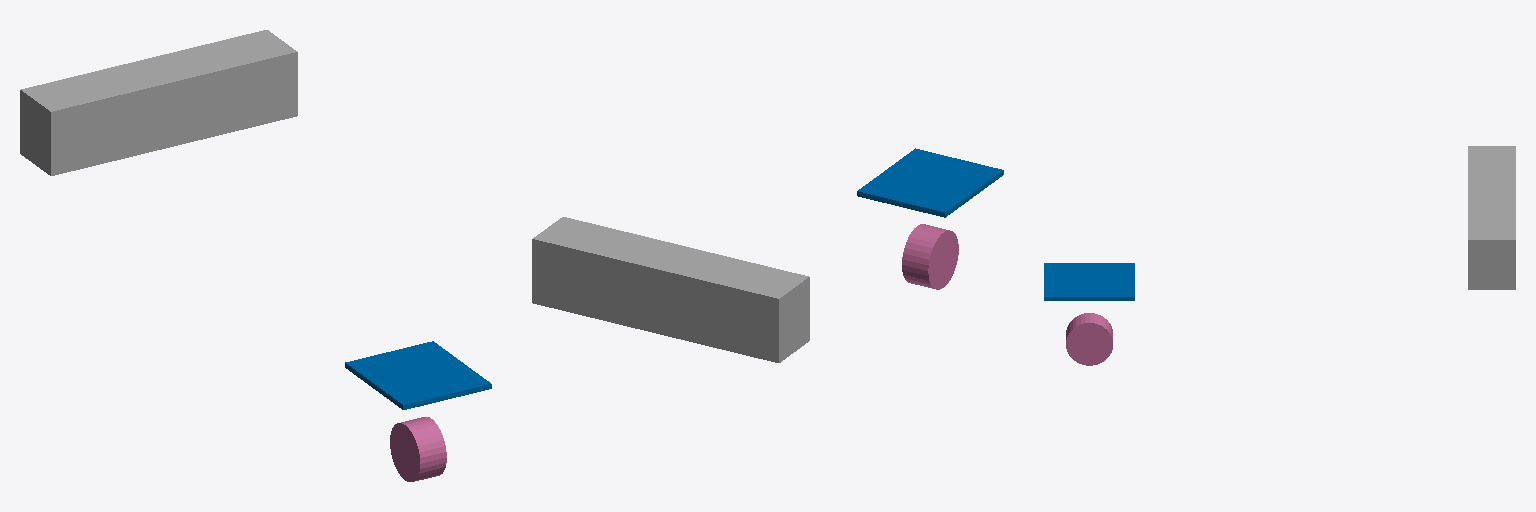
URDF robot description (tondeuse):
<?xml version="1.0" encoding="utf-8"?>
<!-- =================================================================================== -->
<!-- |    This document was autogenerated by xacro from tondeuse_gazebo.xacro          | -->
<!-- |    EDITING THIS FILE BY HAND IS NOT RECOMMENDED                                 | -->
<!-- =================================================================================== -->
<robot name="tondeuse">
  <static>false</static>
  <link name="base_footprint"/>
  <joint name="footprint_base_link" type="fixed">
    <origin rpy="0 0 1.570796" xyz="-0.08 -0.005 0"/>
    <child link="base_link"/>
    <parent link="base_footprint"/>
    <axis xyz="0 0 0"/>
  </joint>
  <!-- base_link -->
  <link name="base_link">
    <!-- body -->
    <collision name="collision_chassis">
      <origin rpy="0 0 1.570796" xyz="-0.08 -0.005 -0.110"/>
      <geometry>
        <mesh filename="file:///catkin_ws/src/tondeuse_description/sdf/mesh/tondeuse.stl" scale="0.001 0.001 0.001"/>
      </geometry>
    </collision>
    <visual>
      <origin rpy="0 0 1.570796" xyz="-0.08 -0.005 -0.110"/>
      <geometry>
        <mesh filename="file:///catkin_ws/src/tondeuse_description/sdf/mesh/tondeuse.stl" scale="0.001 0.001 0.001"/>
      </geometry>
    </visual>
    <inertial>
      <origin rpy="0 0 0 " xyz="-0.1 -0.005 0.110"/>
      <mass value="1"/>
      <inertia ixx="0.01" ixy="0" ixz="0" iyy="0.01" iyz="0" izz="0.01"/>
      <!--xacro:box_inertia m="8.167" x="0.52" y="0.35" z="0.25" /-->
    </inertial>
  </link>
  <!-- wheel right -->
  <link name="wheel_right_link">
    <collision name="wheel_right_collision">
      <origin rpy="3.14159265 0 0" xyz=" 0 0 0"/>
      <geometry>
        <mesh filename="file:///catkin_ws/src/tondeuse_description/sdf/mesh/roue.dae" scale="0.001 0.001 0.001"/>
      </geometry>
    </collision>
    <visual name="wheel_right_visual">
      <origin rpy="3.14159265 0 0" xyz=" 0 0 0"/>
      <geometry>
        <mesh filename="file:///catkin_ws/src/tondeuse_description/sdf/mesh/roue.dae" scale="0.001 0.001 0.001"/>
      </geometry>
    </visual>
    <inertial>
      <origin rpy="3.14159265 0 0" xyz=" 0 0 0"/>
      <mass value="0.01"/>
      <inertia ixx="3.23333333333e-05" ixy="0" ixz="0" iyy="3.23333333333e-05" iyz="0" izz="6.05e-05"/>
    </inertial>
  </link>
  <joint name="wheel_right_joint" type="continuous">
    <origin rpy="-1.570796 0 0" xyz="0 -0.195 0"/>
    <child link="wheel_right_link"/>
    <parent link="base_link"/>
    <axis xyz="0 0 1"/>
  </joint>
  <!-- wheel_left_link -->
  <link name="wheel_left_link">
    <collision name="wheel_left_collision">
      <origin rpy="0 0 0" xyz="0 0 0"/>
      <geometry>
        <mesh filename="file:///catkin_ws/src/tondeuse_description/sdf/mesh/roue.dae" scale="0.001 0.001 0.001"/>
      </geometry>
    </collision>
    <visual name="wheel_left_visual">
      <origin rpy="0 0 0" xyz="0 0 0"/>
      <geometry>
        <mesh filename="file:///catkin_ws/src/tondeuse_description/sdf/mesh/roue.dae" scale="0.001 0.001 0.001"/>
      </geometry>
    </visual>
    <inertial>
      <origin rpy="0 0 0" xyz="0 0 0"/>
      <mass value="0.01"/>
      <inertia ixx="3.23333333333e-05" ixy="0" ixz="0" iyy="3.23333333333e-05" iyz="0" izz="6.05e-05"/>
    </inertial>
  </link>
  <joint name="wheel_left_joint" type="continuous">
    <origin rpy="-1.570796 0 0" xyz="0 0.195 0"/>
    <child link="wheel_left_link"/>
    <parent link="base_link"/>
    <axis xyz="0 0 1 "/>
  </joint>
  <!-- Wheels materials color-->
  <gazebo reference="wheel_left_link">
    <material>Gazebo/Black</material>
  </gazebo>
  <gazebo reference="wheel_right_link">
    <material>Gazebo/Black</material>
  </gazebo>
  <!-- Wheels diff driver-->
  <gazebo>
    <plugin filename="libgazebo_ros_diff_drive.so" name="differential_drive_controller">
      <commandTopic>cmd_vel</commandTopic>
      <odometryTopic>odom</odometryTopic>
      <odometryFrame>odom</odometryFrame>
      <odometrySource>world</odometrySource>
      <publishOdomTF>true</publishOdomTF>
      <robotBaseFrame>base_footprint</robotBaseFrame>
      <publishWheelTF>true</publishWheelTF>
      <publishTf>true</publishTf>
      <publishWheelJointState>true</publishWheelJointState>
      <legacyMode>false</legacyMode>
      <updateRate>30</updateRate>
      <leftJoint>wheel_left_joint</leftJoint>
      <rightJoint>wheel_right_joint</rightJoint>
      <wheelSeparation>0.45</wheelSeparation>
      <wheelDiameter>0.220</wheelDiameter>
      <wheelAcceleration>3</wheelAcceleration>
      <wheelTorque>3</wheelTorque>
      <rosDebugLevel>true</rosDebugLevel>
      <broadcastTF>1</broadcastTF>
    </plugin>
  </gazebo>
  <gazebo reference="base_link">
    <material>Gazebo/Red</material>
  </gazebo>
  

3
  
  <!--======================END ofPART #2 - MACROS===========================-->
  <!--=======================================================================-->
  <!--0.25 kg-->
  <!--0.25 kg-->
  <!--2 kg-->
  <gazebo reference="right_castor_wheel_link">
    <material>Gazebo/Black</material>
    <!--tags are from: http://gazebosim.org/tutorials/?tut=ros_urdf-->
    <!--These values fixed the robot from bouncing side to side:
          Problem: http://answers.gazebosim.org/question/24459/model-contact-with-ground-issue/
          solution: see: http://answers.gazebosim.org/question/3334/slip1-slip2-in-urdf/-->
    <kp>1000000.0</kp>
    <kd>10.0</kd>
    <mu1>0.0</mu1>
    <mu2>0.0</mu2>
    <fdir1>1 0 0</fdir1>
    <maxVel>1.0</maxVel>
    <minDepth>0.00</minDepth>
  </gazebo>
  <!--+++++++++++++++++++++++++++++++++++RIGHT CASTOR+++++++++++++++++++++++++++++++++++++++++++++++++++-->
  <link name="right_castor_mount_link">
    <!--If you do not explicitly specify a <collision> element. Gazebo will 
      treat your link as "invisible" to laser scanners and collision checking-->
    <collision>
      <geometry>
        <box size="0.1145 0.1 0.0057"/>
      </geometry>
      <!-- line below allows us to insert:<origin rpy="${rpy}" xyz="${xyz}"/>-->
      <origin rpy="0 0 0" xyz="0 0 0"/>
    </collision>
    <visual>
      <geometry>
        <!--box dimensions is Meters. L X W X H where the L X H is a ractange, 
              and the H extrudes it upwards -->
        <box size="0.1145 0.1 0.0057"/>
      </geometry>
      <!-- line below allows us to insert:<origin rpy="${rpy}" xyz="${xyz}"/>-->
      <origin rpy="0 0 0" xyz="0 0 0"/>
      <material name="black"/>
    </visual>
    <inertial>
      <!-- line below allows us to insert:<origin rpy="${rpy}" xyz="${xyz}"/>-->
      <origin rpy="0 0 0" xyz="0 0 0"/>
      <!--all blocks now need a 'mass' argument-->
      <mass value="0.01"/>
      <!--This is the 3x3 inertial matrix. See: https://wiki.ros.org/urdf/XML/link -->
      <!--where x=length; y=width; z=height. these lines of code came from 
        Emiliano Borghi's project-->
      <inertia ixx="8.36040833333e-06" ixy="0" ixz="0" iyy="1.09522833333e-05" iyz="0" izz="1.09522833333e-05"/>
    </inertial>
  </link>
  <joint name="base_to_right_castor_mount_joint" type="fixed">
    <parent link="base_link"/>
    <child link="right_castor_mount_link"/>
    <!-- this is the point at which the two parts attach to one another    -->
    <origin xyz="-0.40 0 0"/>
  </joint>
  <link name="right_castor_dummy_link">
    <!--If you do not explicitly specify a <collision> element. Gazebo will 
      treat your link as "invisible" to laser scanners and collision checking-->
    <collision>
      <geometry>
        <box size="0.02 0.02 0.02"/>
      </geometry>
      <!-- line below allows us to insert:<origin rpy="${rpy}" xyz="${xyz}"/>-->
      <origin rpy="0 0 0" xyz="0 0 0"/>
    </collision>
    <visual>
      <geometry>
        <!--box dimensions is Meters. L X W X H where the L X H is a ractange, 
              and the H extrudes it upwards -->
        <box size="0.02 0.02 0.02"/>
      </geometry>
      <!-- line below allows us to insert:<origin rpy="${rpy}" xyz="${xyz}"/>-->
      <origin rpy="0 0 0" xyz="0 0 0"/>
      <material name="orange"/>
    </visual>
    <inertial>
      <!-- line below allows us to insert:<origin rpy="${rpy}" xyz="${xyz}"/>-->
      <origin rpy="0 0 0" xyz="0 0 0"/>
      <!--all blocks now need a 'mass' argument-->
      <mass value="0.01"/>
      <!--This is the 3x3 inertial matrix. See: https://wiki.ros.org/urdf/XML/link -->
      <!--where x=length; y=width; z=height. these lines of code came from 
        Emiliano Borghi's project-->
      <inertia ixx="6.66666666667e-07" ixy="0" ixz="0" iyy="6.66666666667e-07" iyz="0" izz="6.66666666667e-07"/>
    </inertial>
  </link>
  <joint name="right_castor_mount_to_right_castor_dummy_joint" type="continuous">
    <axis rpy="0 0 0" xyz="0 0 1"/>
    <parent link="right_castor_mount_link"/>
    <child link="right_castor_dummy_link"/>
    <!-- this is the point at which the two parts attach to one another    -->
    <origin xyz="0.0 0.0  -0.01"/>
    <!--This introduces friction so that continious joints don't spin indefinitly
      damping is only used in Gazebo4 and earlier.... -->
    <dynamics damping="0.0" friction="0.15"/>
  </joint>
  <link name="right_castor_wheel_link">
    3
      
    <!--If you do not explicitly specify a <collision> element. Gazebo will 
      treat your link as "invisible" to laser scanners and collision checking-->
    <collision>
      <geometry>
        <cylinder length="0.03" radius="0.03"/>
      </geometry>
      <origin rpy="1.57079632679 0 0" xyz="0 0 0"/>
    </collision>
    <visual>
      <geometry>
        <cylinder length="0.03" radius="0.03"/>
      </geometry>
      <!-- roll pitch and yaw will move the item in 3D space to arrange it how
               we want it in relation to the origin. the XYZ is to move it around
             the 3D space relative to the origin. Note that 1.57075 is pi/2 -->
      <origin rpy="1.57079632679 0 0" xyz="0 0 0"/>
      <material name="Black"/>
    </visual>
    <!--TODO-->
    <inertial>
      <!-- line below allows us to insert:<origin rpy="${rpy}" xyz="${xyz}"/>-->
      <origin rpy="1.57079632679 0 0" xyz="0 0 0"/>
      <!--all blocks now need a 'mass' argument-->
      <mass value="0.01"/>
      <!--This is the 3x3 inertial matrix. See: https://wiki.ros.org/urdf/XML/link -->
      <inertia ixx="3e-06" ixy="0" ixz="0" iyy="3e-06" iyz="0" izz="4.5e-06"/>
    </inertial>
  </link>
  <joint name="right_castor_dummy_to_right_castor_wheel_joint" type="continuous">
    <axis rpy="0 0 0" xyz="0 1 0"/>
    <parent link="right_castor_dummy_link"/>
    <child link="right_castor_wheel_link"/>
    <!-- this is the point at which the two parts attach to one another    -->
    <origin xyz="-0.0  0 -0.07"/>
    <!--This introduces friction so that continious joints don't spin indefinitly
      damping is only used in Gazebo4 and earlier.... -->
    <dynamics damping="0.0" friction="0.15"/>
  </joint>
  <joint name="kinect_base_link_joint" type="fixed">
    <origin rpy="0 0 1.570796" xyz="0.11 0 0.09"/>
    <parent link="base_link"/>
    <child link="kinect_link"/>
  </joint>
  <link name="kinect_link">
    <visual>
      <geometry>
        <box size="0.28 0.06 0.07 "/>
      </geometry>
      <material name="Blue"/>
    </visual>
    <inertial>
      <mass value="0.0001"/>
      <origin xyz="0 0 0"/>
      <inertia ixx="0.0001" ixy="0.0" ixz="0.0" iyy="0.0001" iyz="0.0" izz="0.0001"/>
    </inertial>
  </link>
  <joint name="kinect_depth_joint" type="fixed">
    <origin rpy="0 0 0" xyz="0 0 0"/>
    <parent link="kinect_link"/>
    <child link="kinect_depth_frame"/>
  </joint>
  <link name="kinect_depth_frame">
    <inertial>
      <mass value="0.0001"/>
      <origin xyz="0 0 0"/>
      <inertia ixx="0.0001" ixy="0.0" ixz="0.0" iyy="0.0001" iyz="0.0" izz="0.0001"/>
    </inertial>
  </link>
  <joint name="depth_optical_joint" type="fixed">
    <origin rpy="0 0 0 " xyz="0 0 0"/>
    <parent link="kinect_depth_frame"/>
    <child link="kinect_depth_optical_frame"/>
  </joint>
  <link name="kinect_depth_optical_frame">
    <inertial>
      <mass value="0.0001"/>
      <origin xyz="0 0 0"/>
      <inertia ixx="0.0001" ixy="0.0" ixz="0.0" iyy="0.0001" iyz="0.0" izz="0.0001"/>
    </inertial>
  </link>
</robot>
<!-- rosrun xacro xacro tondeuse_gazebo.xacro > tondeuse.urdf -->

--- What the picture shows (computed from the rendered views, not written in the file) ---
The picture shows the robot from 3 angles, left to right: view 1: azimuth 30°, elevation 25°; view 2: azimuth 150°, elevation 25°; view 3: azimuth 270°, elevation 25°; orthographic projection.
Model tondeuse with 10 links and 9 joints (4 continuous, 5 fixed), rooted at base_footprint, posed all joints at 0.
Links seen in each view (by area): view 1: kinect_link, right_castor_mount_link, right_castor_wheel_link; view 2: kinect_link, right_castor_mount_link, right_castor_wheel_link; view 3: kinect_link, right_castor_mount_link, right_castor_wheel_link.
Boxes of the visible links, x1=… form: kinect_link: x1=20, y1=30, x2=297, y2=175; right_castor_mount_link: x1=345, y1=341, x2=491, y2=409; right_castor_wheel_link: x1=390, y1=417, x2=446, y2=481; kinect_link: x1=532, y1=217, x2=809, y2=362; right_castor_mount_link: x1=857, y1=148, x2=1003, y2=217; right_castor_wheel_link: x1=902, y1=224, x2=958, y2=289; kinect_link: x1=1468, y1=146, x2=1515, y2=289; right_castor_mount_link: x1=1044, y1=263, x2=1134, y2=300; right_castor_wheel_link: x1=1066, y1=313, x2=1112, y2=365.
Bounding box of the posed robot: 0.28 × 0.5973 × 0.235 m (x, y, z).
Geometry: only primitive shapes (box / cylinder / sphere) drawn; not drawn: 3 mesh visuals (reference in a form the renderer does not follow).
